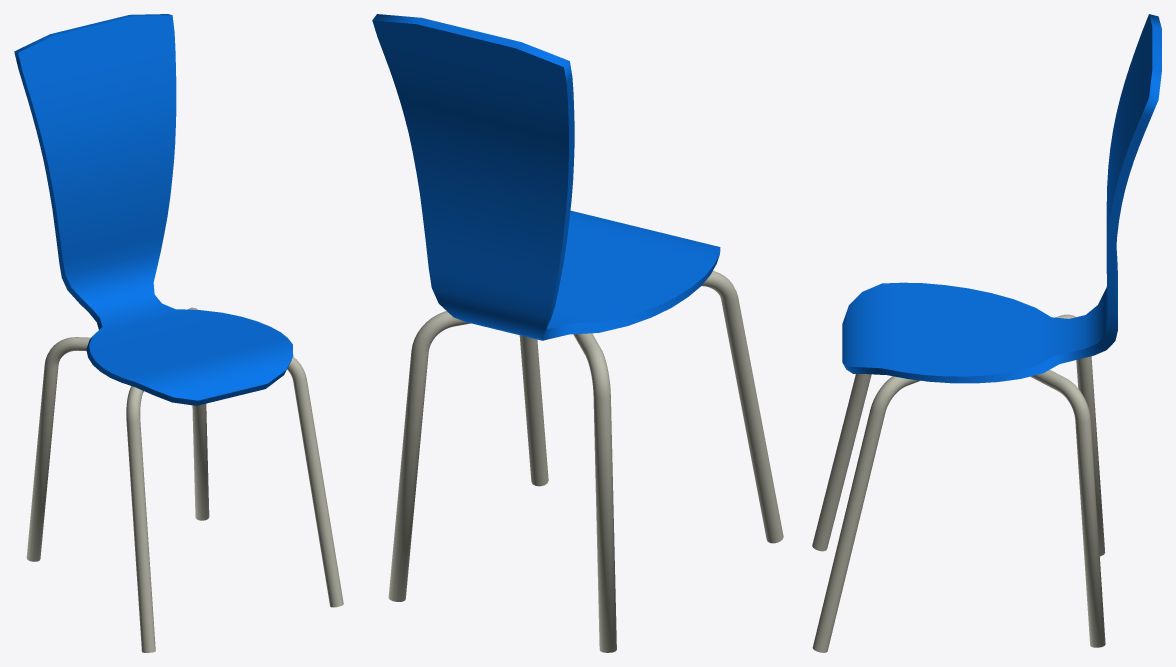
Rendered from dining-chair.glb.
The picture shows the model from 3 angles, left to right: view 1: azimuth 30°, elevation 25°; view 2: azimuth 150°, elevation 25°; view 3: azimuth 270°, elevation 25°; orthographic projection. The views are drawn at different scales.
Visible parts, largest first — view 1: Dining_chair; view 2: Dining_chair; view 3: Dining_chair.
Part boxes in pixels (x1,y1,x2,y2): Dining_chair: (14,14,343,652); Dining_chair: (372,14,783,652); Dining_chair: (812,14,1161,652).
Size of the model in its own units: 0.423 by 0.999 by 0.5736.
